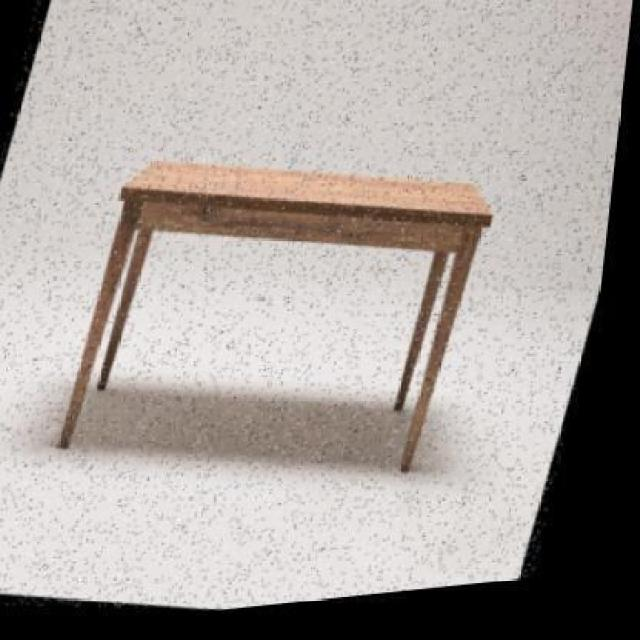tables: (57, 157, 492, 472)
